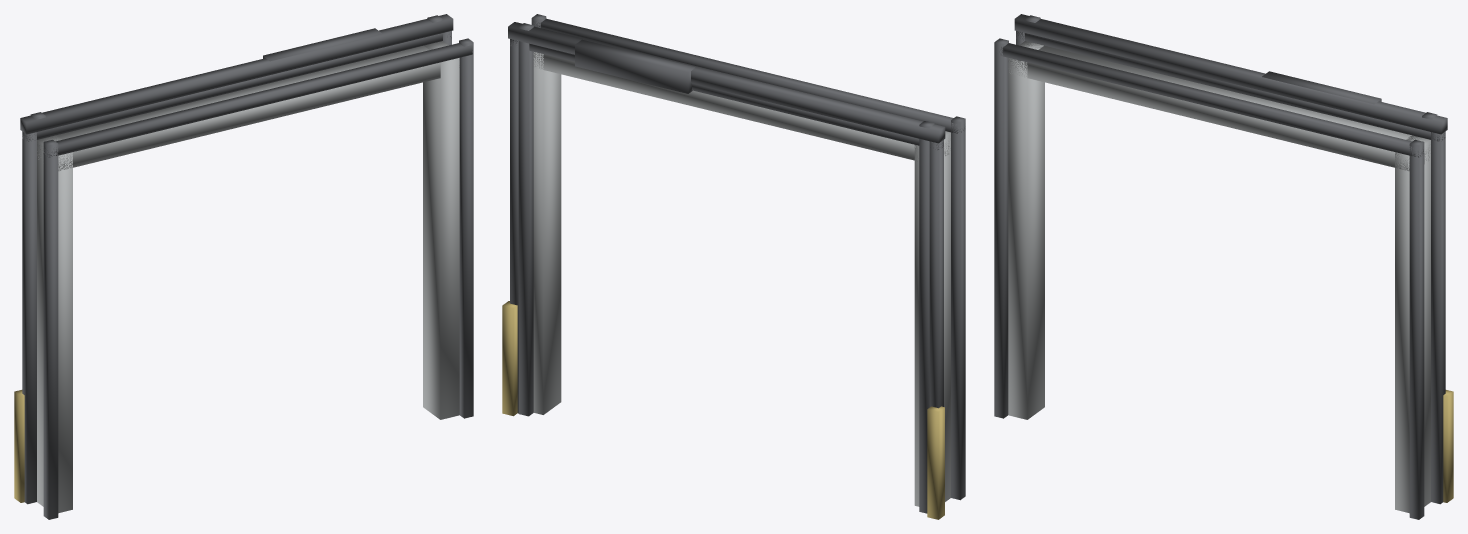
Rendered from bay_opening_loading_bay_w360_h320_d30.glb.
3 views of the same model, side by side, from view 1: azimuth 30°, elevation 25°; view 2: azimuth 150°, elevation 25°; view 3: azimuth 330°, elevation 25° (orthographic).
Parts seen in each view (by area): view 1: world; view 2: world; view 3: world.
Part boxes in pixels (x1,y1,x2,y2): world: (14, 14, 473, 519); world: (502, 14, 965, 519); world: (994, 14, 1453, 519).
Size of the model in its own units: 4.23 by 3.59 by 0.522.
